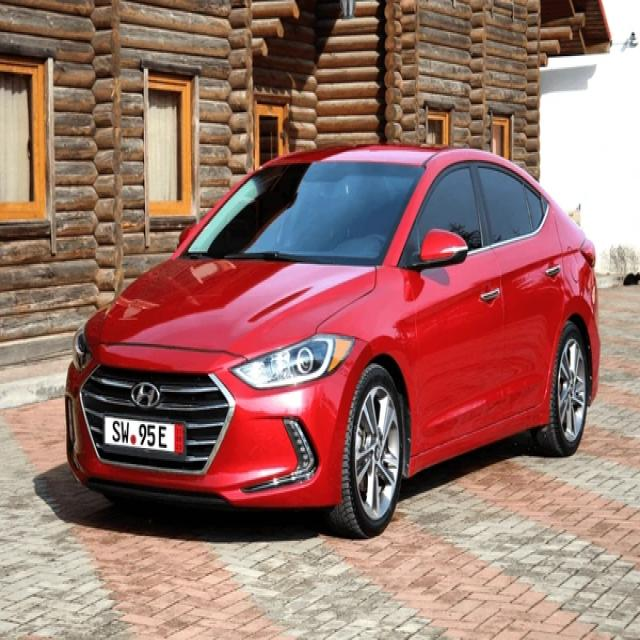hyundai: (131, 383, 164, 409)
